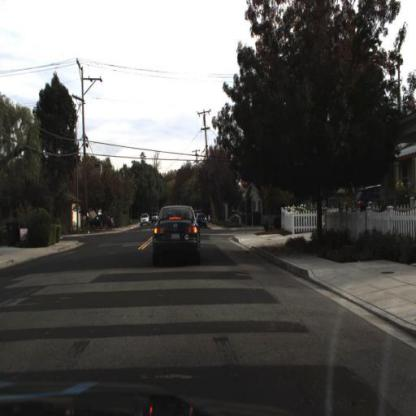car: (145, 203, 205, 273), (84, 209, 117, 236), (137, 206, 152, 233), (195, 210, 209, 231)
